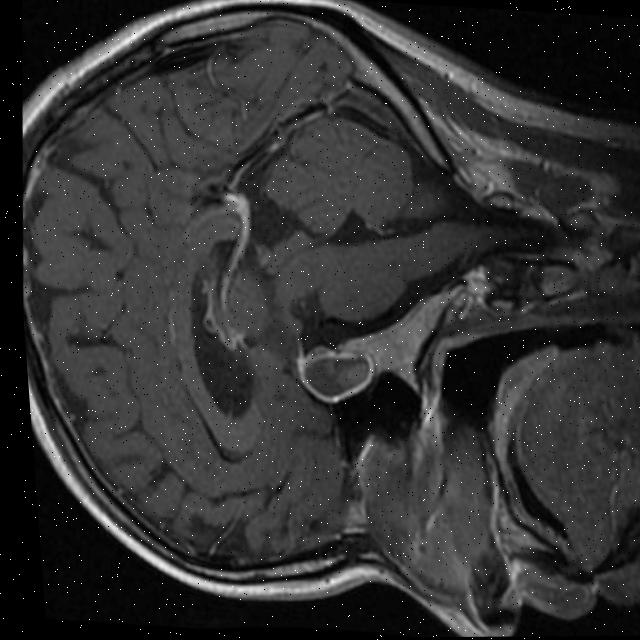Pituitary: (292, 342, 378, 403)
